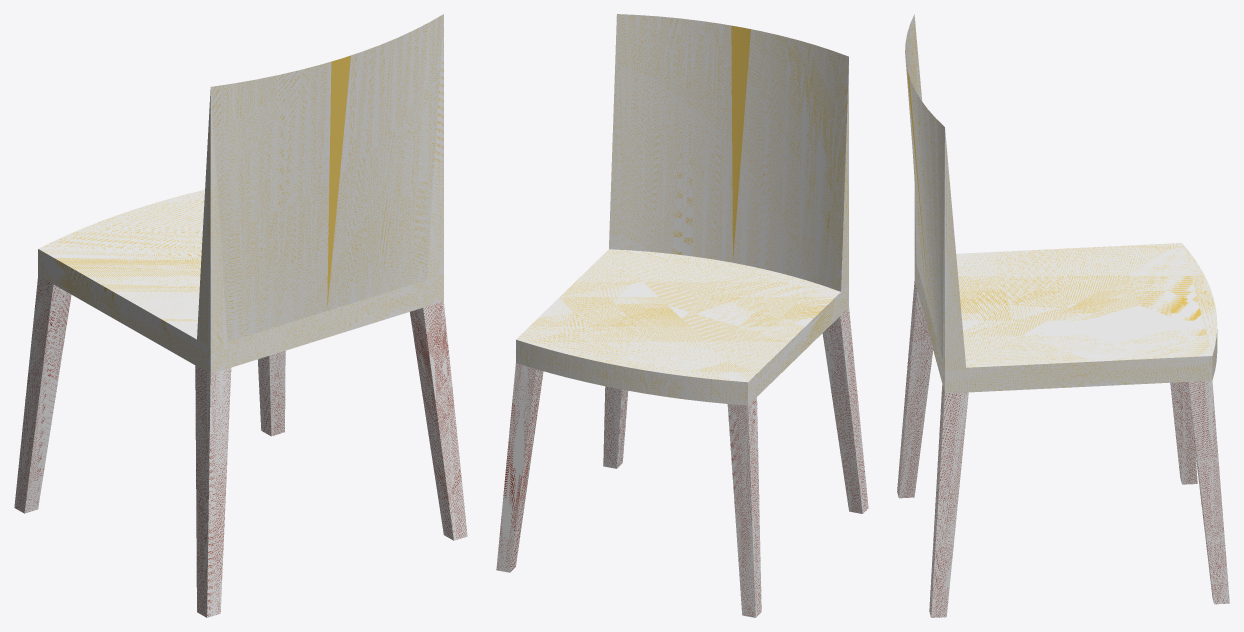
3 renders of one model, left to right at view 1: azimuth 30°, elevation 25°; view 2: azimuth 150°, elevation 25°; view 3: azimuth 270°, elevation 25°, orthographic. The views are drawn at different scales.
Visible parts, largest first — view 1: mesh1_mesh1-geometry; view 2: mesh1_mesh1-geometry; view 3: mesh1_mesh1-geometry.
Part boxes in pixels (left/top/right/bottom): mesh1_mesh1-geometry: left=14, top=14, right=467, bottom=617; mesh1_mesh1-geometry: left=496, top=14, right=868, bottom=617; mesh1_mesh1-geometry: left=897, top=14, right=1229, bottom=617.
Size of the model in its own units: 0.4677 by 0.75 by 0.4677.
